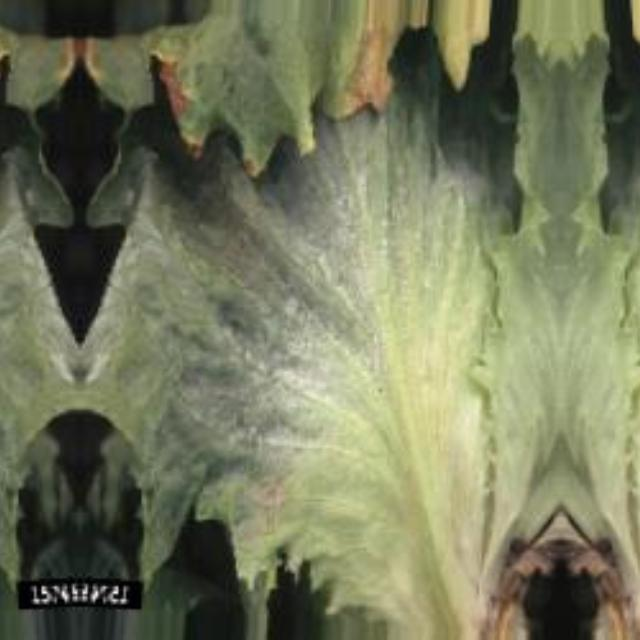Powdery_mildew: (240, 300, 376, 412), (317, 182, 378, 294), (136, 204, 176, 366), (0, 204, 22, 365), (230, 420, 324, 452)
